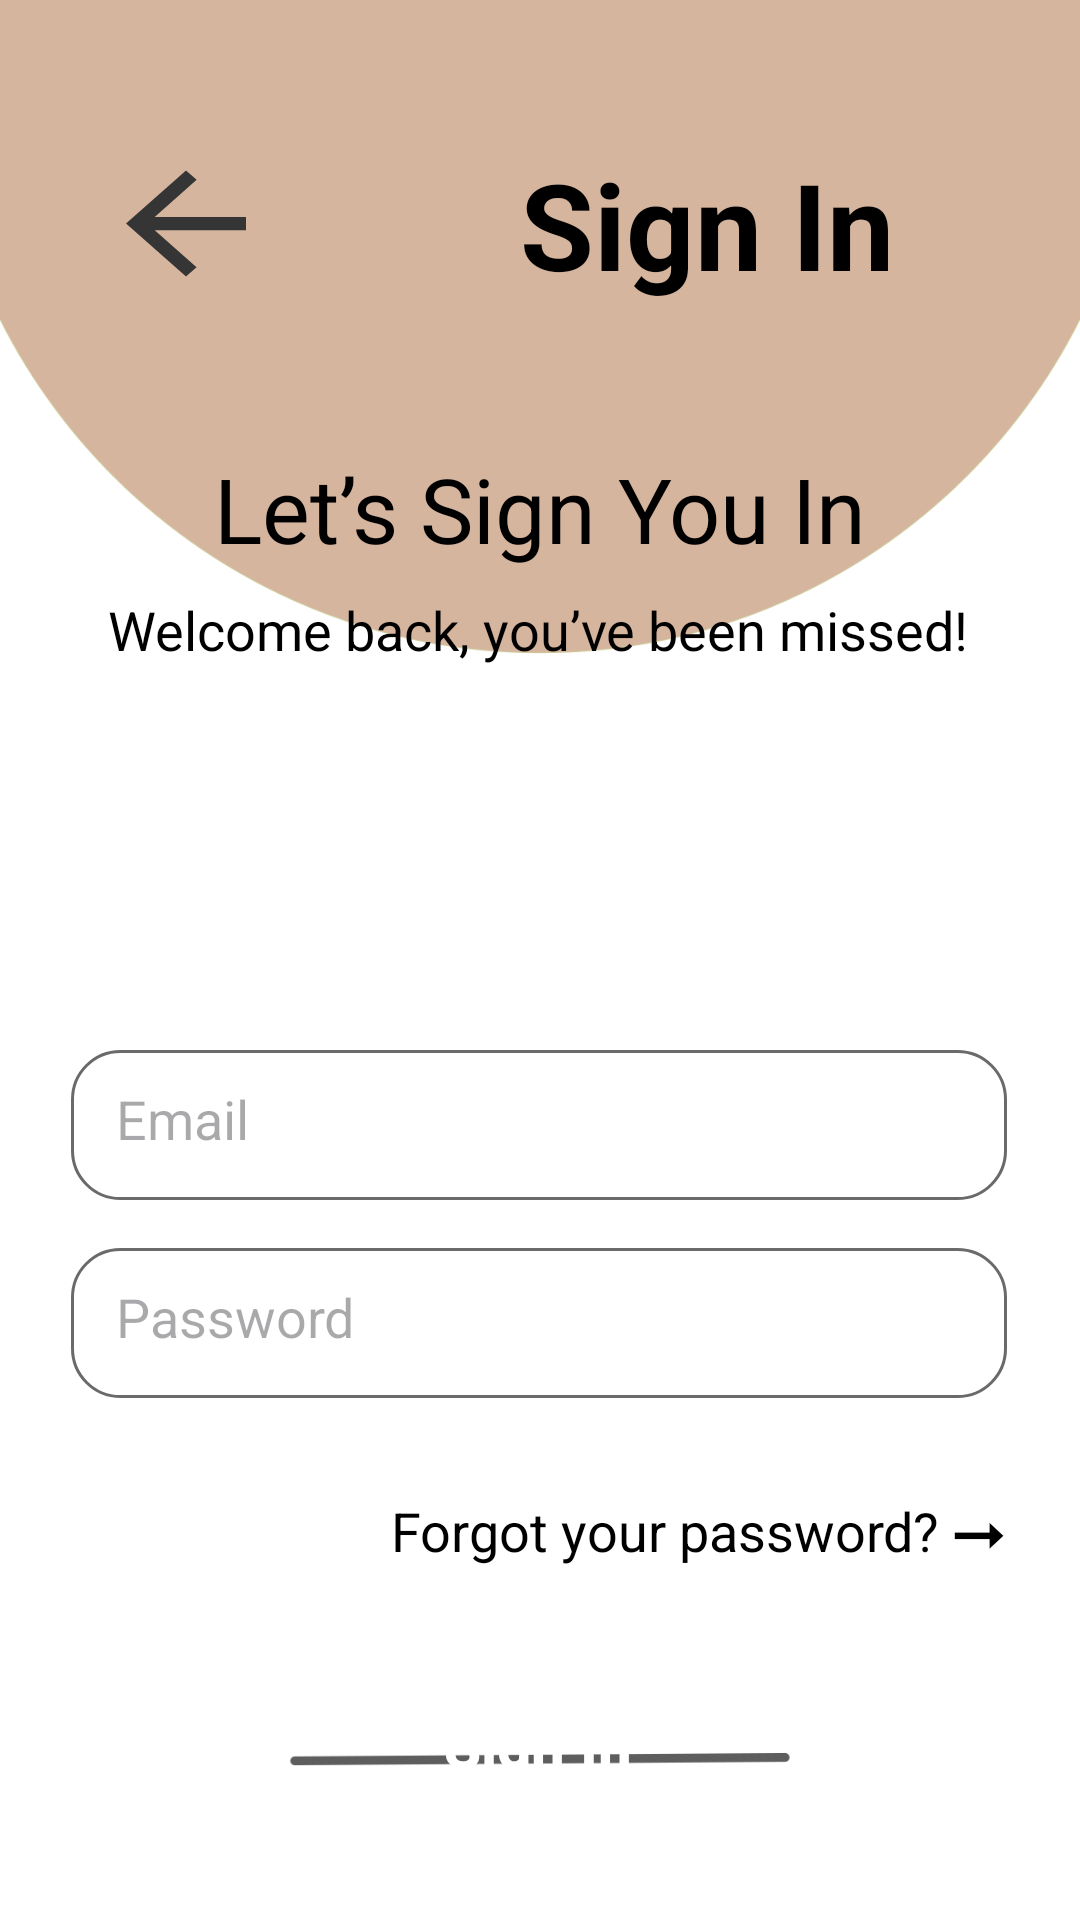

Where to tap for icons on this 1080 x 1920 app screen, as point (x, y):
arrow back: point (186, 223)
